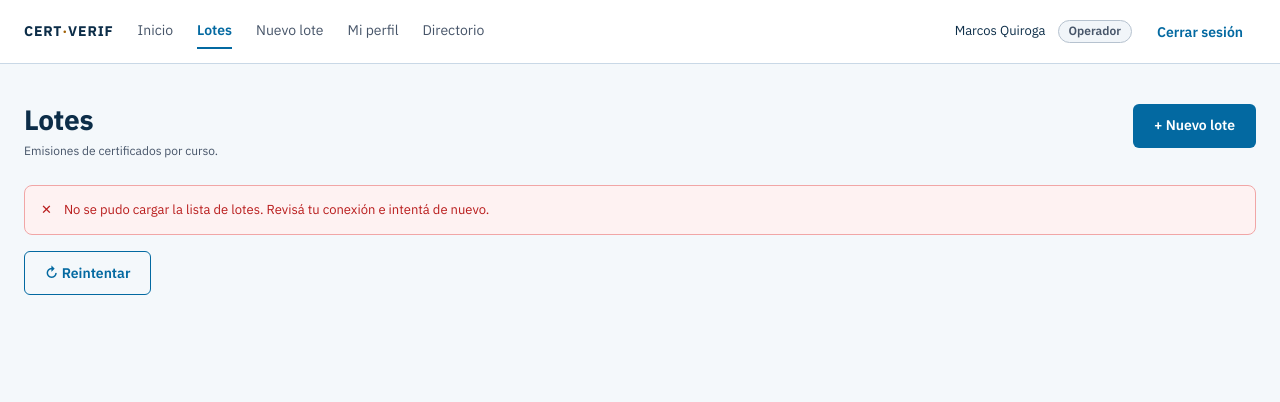
lista de lotes › error con reintento
Check: the text "No se pudo cargar la lista de lotes. Revisá tu conexión e intentá de nuevo." is shown, box [64,201,489,218]
Step 1. Click the button "↻ Reintentar" → click(88, 273), box [24,251,151,295]
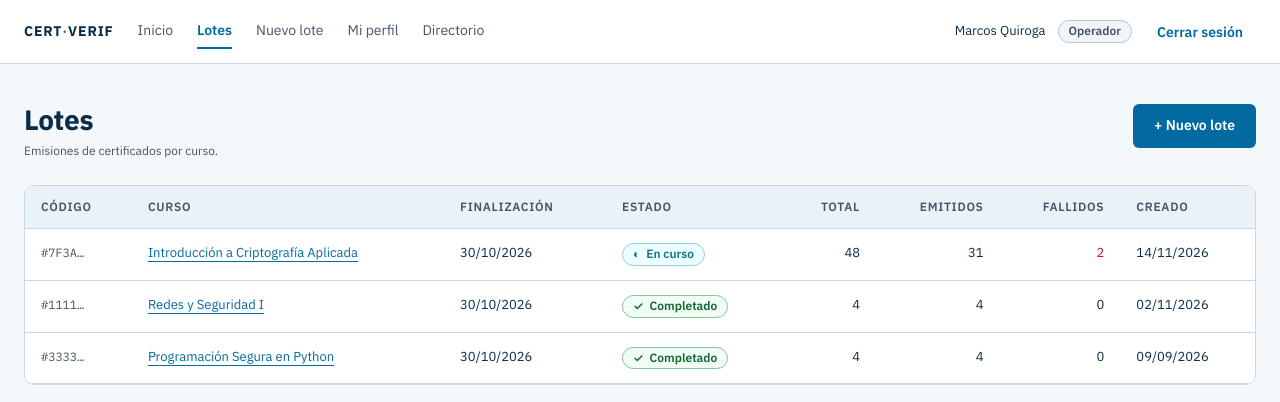
Check: the table is shown, box [25,186,1255,384]
